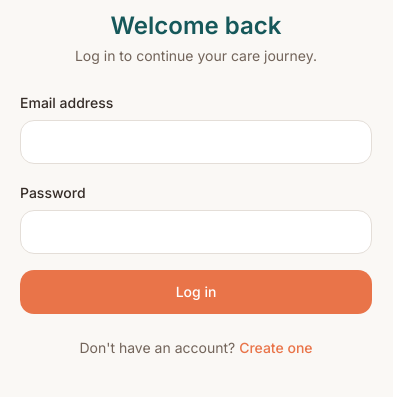
LoginPage › shows a validation message for an empty password
In the field labelled "Email address": (196, 142) [20,120,372,164], type "grace@example.com"
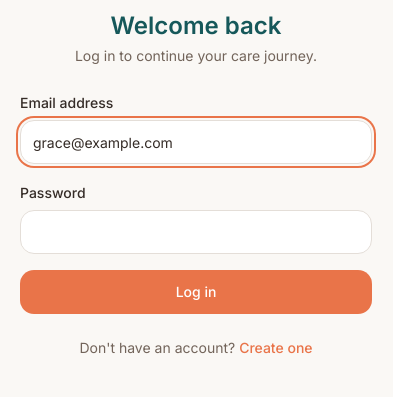
Click the button "Log in": click(196, 292) [20,270,372,314]
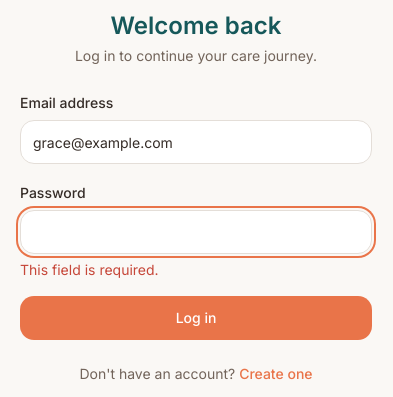
Check: the message "This field is required." is shown, box [20,261,159,278]
